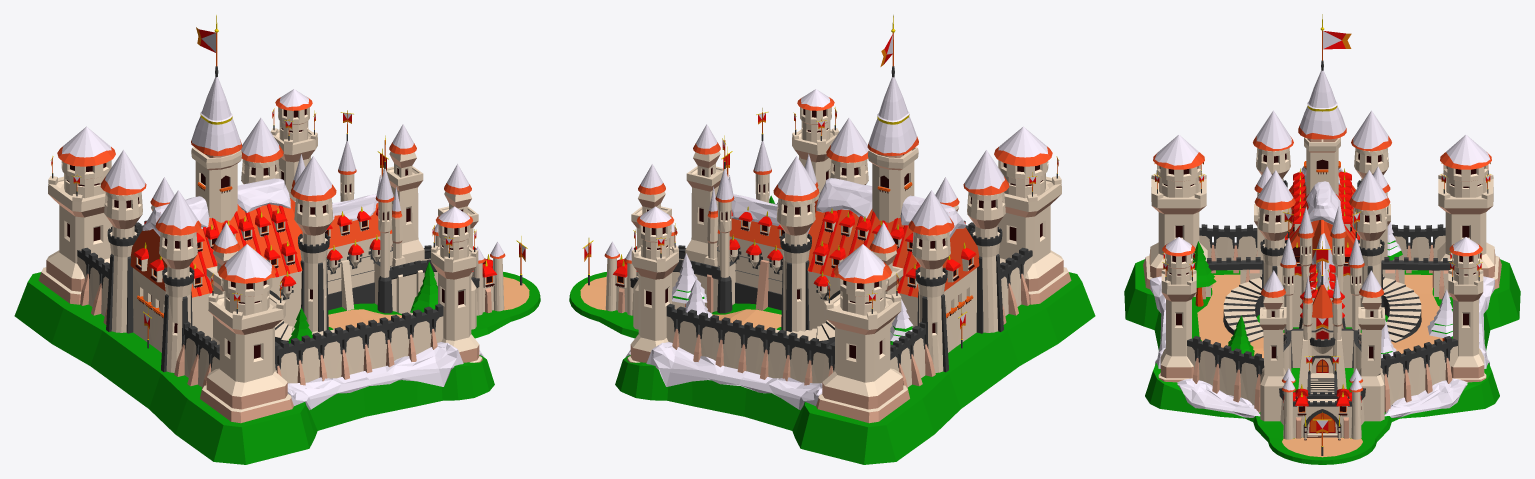
File: castle.glb
The picture shows the model from 3 angles, left to right: view 1: azimuth 30°, elevation 25°; view 2: azimuth 150°, elevation 25°; view 3: azimuth 270°, elevation 25°; orthographic projection. The views are drawn at different scales.
Parts seen in each view (by area): view 1: Castle; view 2: Castle; view 3: Castle.
Part boxes in pixels (left/top/right/bottom): Castle: left=14, top=15, right=540, bottom=464; Castle: left=569, top=15, right=1095, bottom=464; Castle: left=1124, top=14, right=1520, bottom=464.
Size of what is drawn, in the model's own units: 38 by 30.32 by 34.79.
Materials: 1 (1 with a texture image).
